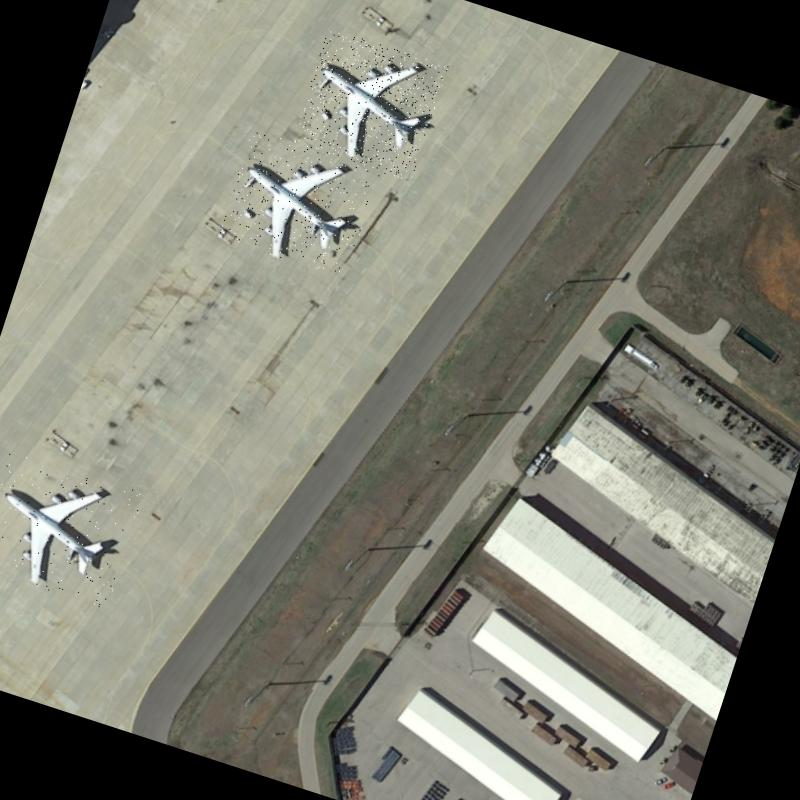A11: (217, 129, 381, 280), (290, 28, 448, 183), (0, 449, 144, 610)
